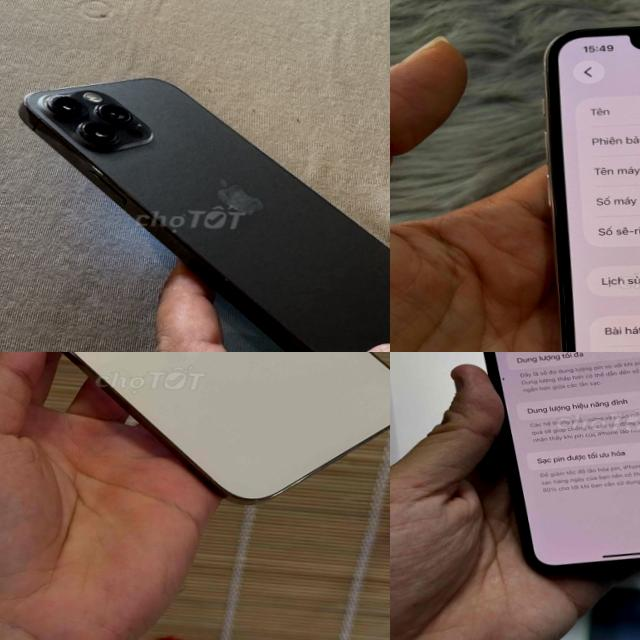gen_11: (448, 352, 640, 580), (521, 0, 640, 352)
gen_12_13: (4, 65, 390, 352)
gen_14: (0, 352, 390, 517)
